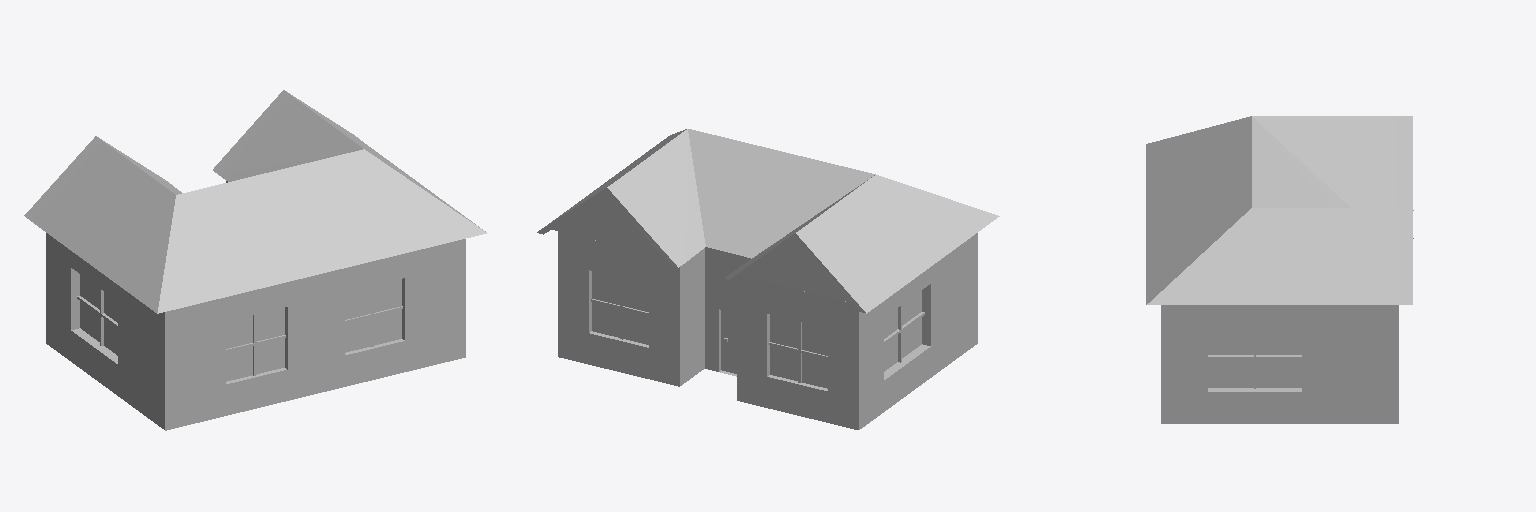
The model's file is Uhouse.obj.
3 views of the same model, side by side, from view 1: azimuth 30°, elevation 25°; view 2: azimuth 150°, elevation 25°; view 3: azimuth 270°, elevation 25° (orthographic).
Visible parts, largest first — view 1: U-Shape_Cube.004; view 2: U-Shape_Cube.004; view 3: U-Shape_Cube.004.
Boxes of the visible parts, x1,y1,x2,y2 form: U-Shape_Cube.004: [24, 90, 486, 430]; U-Shape_Cube.004: [537, 129, 999, 429]; U-Shape_Cube.004: [1146, 116, 1413, 423].
Bounding box in the file's own units: 7.7 × 4.21 × 5.39.